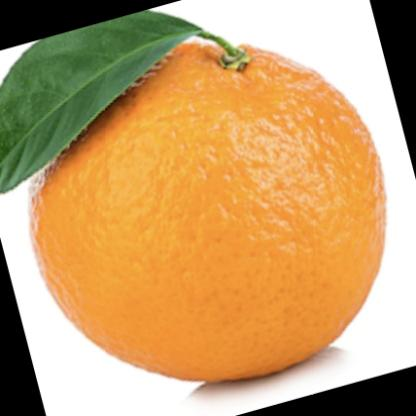fresh: (31, 40, 389, 383)
